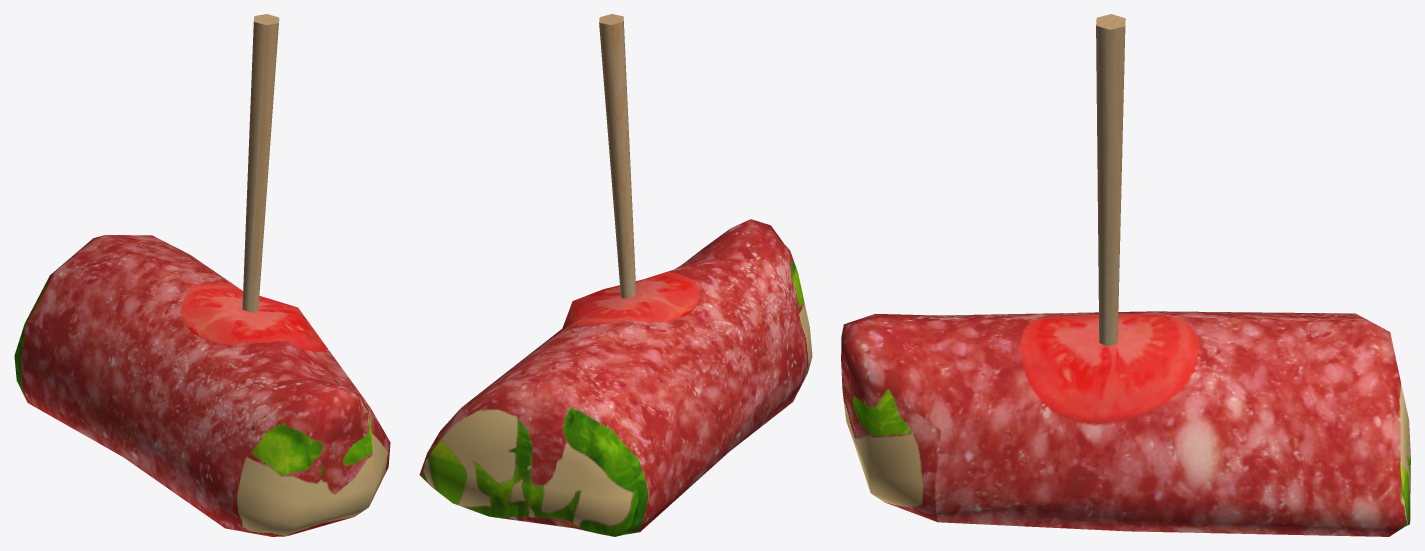
Rendered from BuffetSnacks02_4.FBX.
The picture shows the model from 3 angles, left to right: view 1: azimuth 30°, elevation 25°; view 2: azimuth 150°, elevation 25°; view 3: azimuth 270°, elevation 25°; orthographic projection. The views are drawn at different scales.
Visible parts, largest first — view 1: BuffetSnacks02_4; view 2: BuffetSnacks02_4; view 3: BuffetSnacks02_4.
Boxes of the visible parts, x1,y1,x2,y2 form: BuffetSnacks02_4: [14, 14, 390, 536]; BuffetSnacks02_4: [419, 14, 812, 536]; BuffetSnacks02_4: [841, 14, 1410, 536].
Size of what is drawn, in the model's own units: 0.0547 by 0.1037 by 0.1089.
